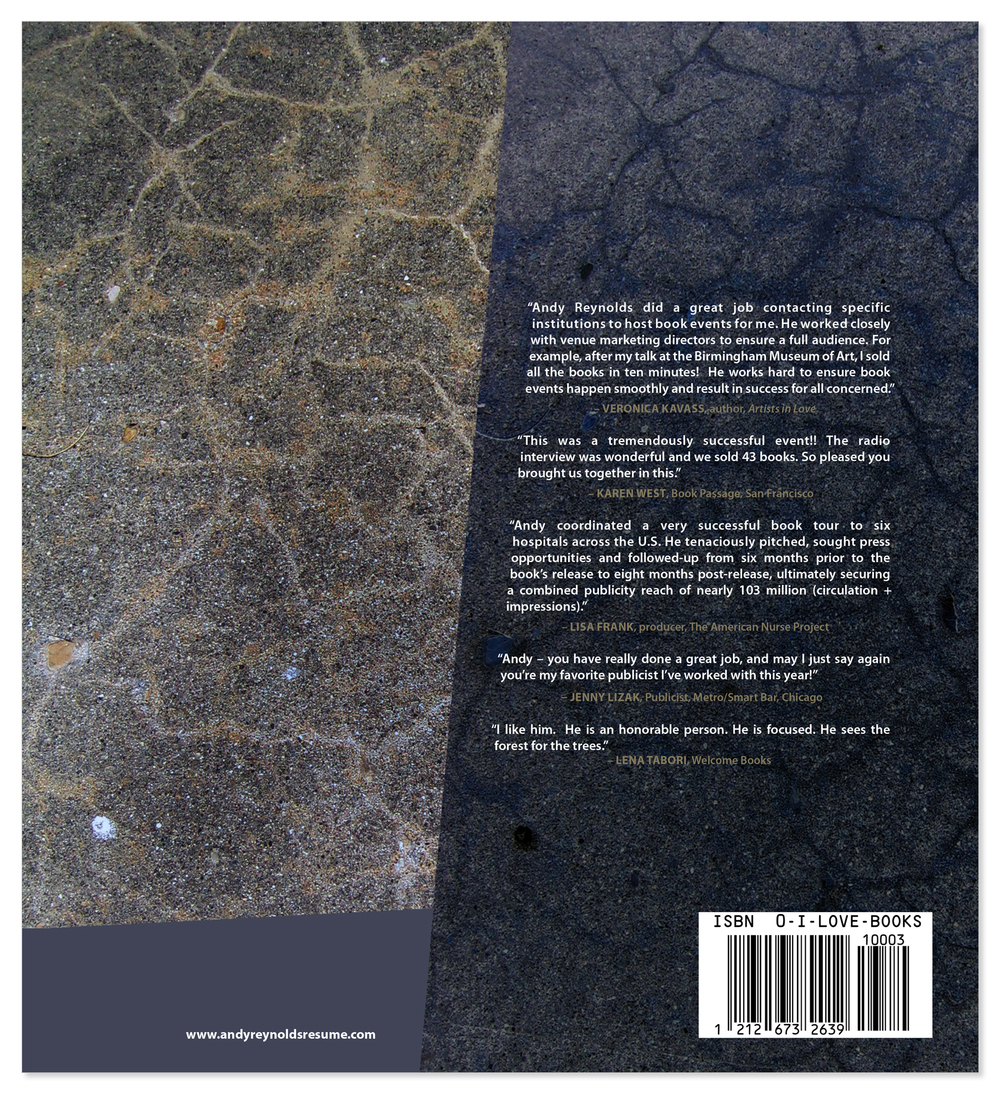barcode: (700, 915, 939, 1035)
